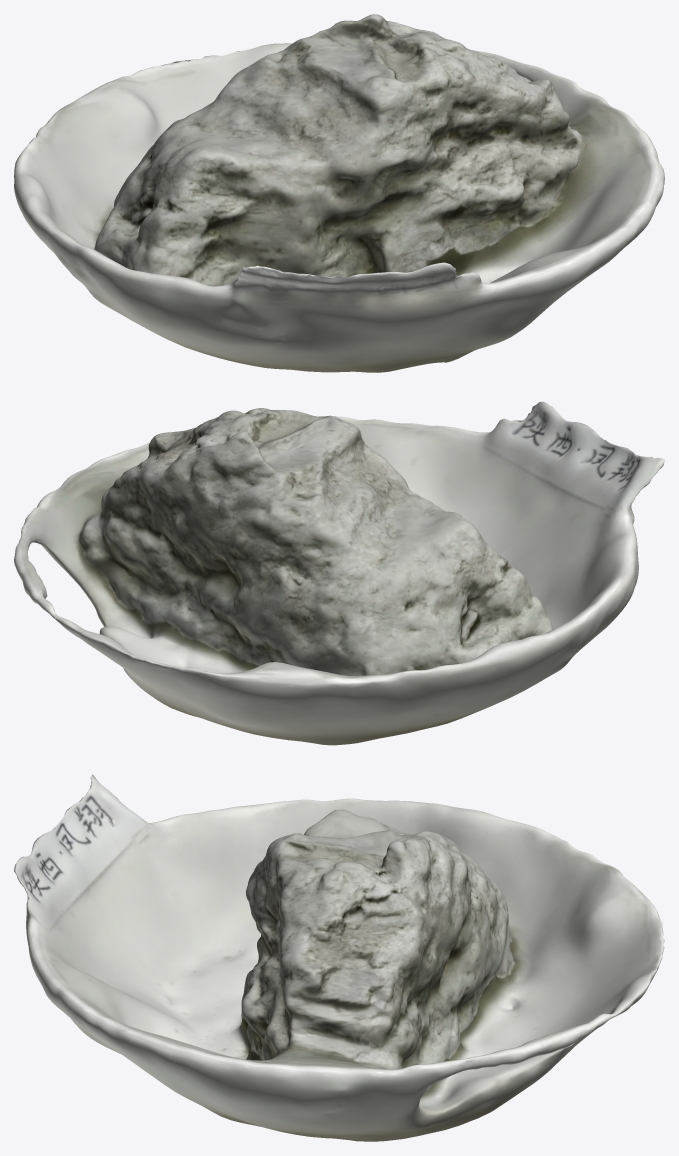
3 views of the same model, one above another, from view 1: azimuth 30°, elevation 25°; view 2: azimuth 150°, elevation 25°; view 3: azimuth 270°, elevation 25° (orthographic). The views are drawn at different scales.
Size of the model in its own units: 0.6963 by 0.3042 by 0.7042.
Materials: 1 (1 with a texture image).
